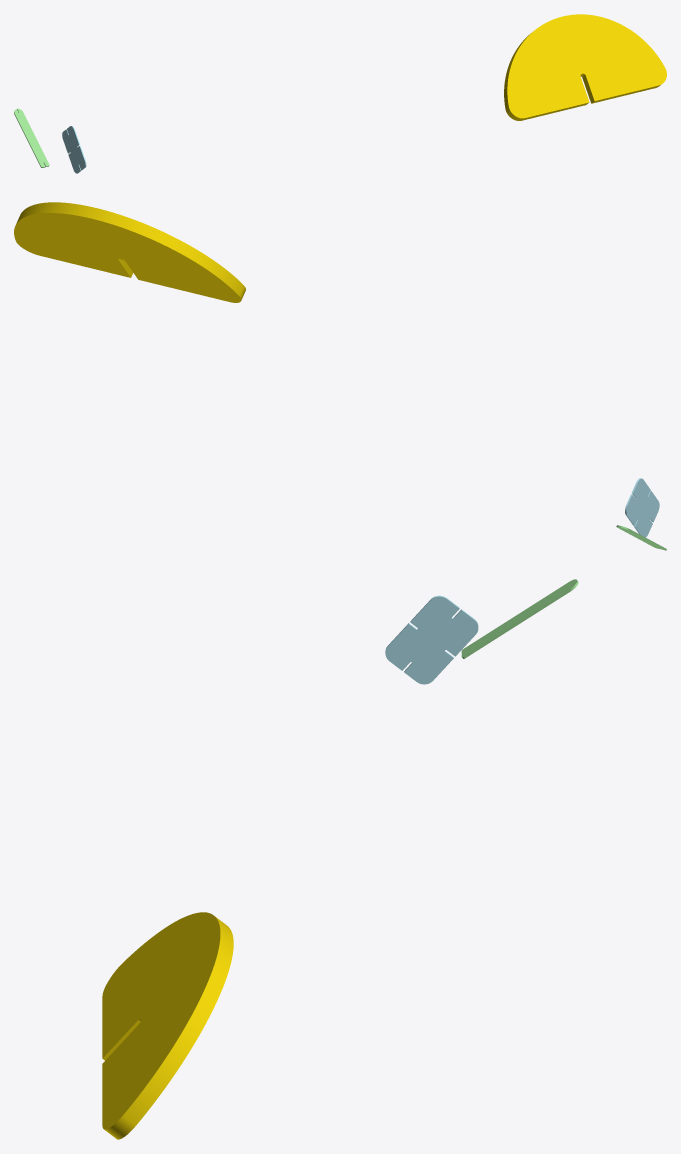
3 views of the same model, one above another, from view 1: azimuth 30°, elevation 25°; view 2: azimuth 150°, elevation 25°; view 3: azimuth 270°, elevation 25° (orthographic). The views are drawn at different scales.
Visible parts, largest first — view 1: Componente2, Componente1, Componente3; view 2: Componente2, Componente1; view 3: Componente2, Componente1, Componente3.
Boxes of the visible parts, x1=… form: Componente2: x1=504, y1=14, x2=666, y2=120; Componente1: x1=62, y1=126, x2=86, y2=173; Componente3: x1=14, y1=108, x2=49, y2=167; Componente2: x1=14, y1=202, x2=245, y2=302; Componente1: x1=625, y1=478, x2=659, y2=537; Componente2: x1=102, y1=912, x2=233, y2=1139; Componente1: x1=385, y1=595, x2=478, y2=684; Componente3: x1=461, y1=579, x2=578, y2=658.
Size of the model in its own units: 719 by 112 by 275.
